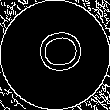O_W: (26, 30, 84, 80)
